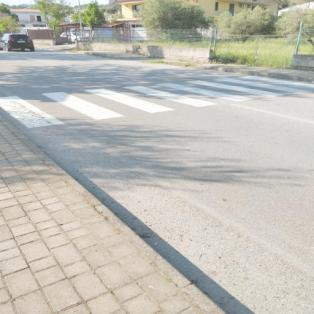Paso de Cebra: (40, 86, 181, 123)
